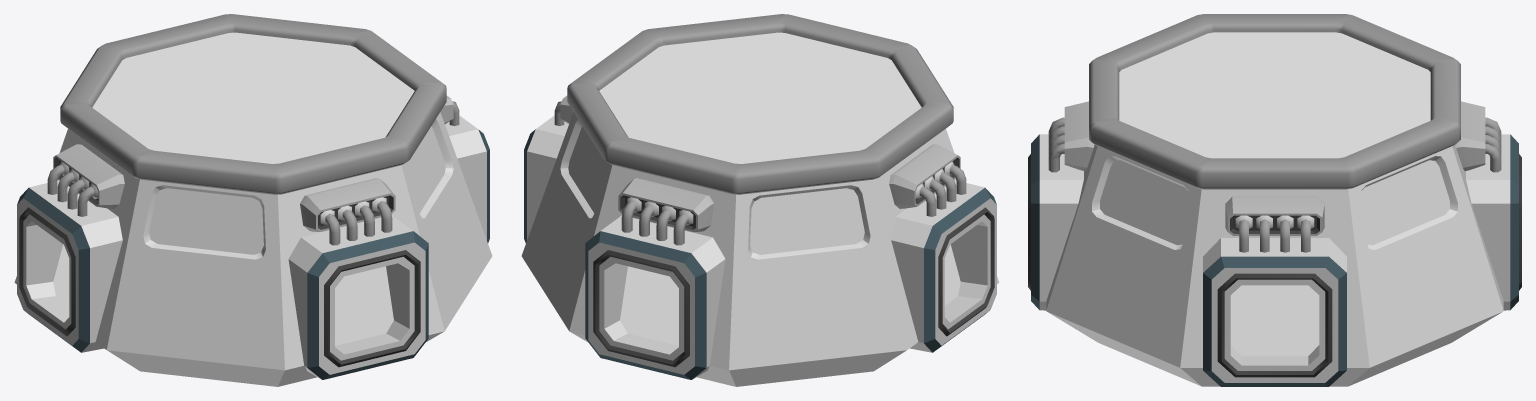
The model's file is section_006.fbx.
The picture shows the model from 3 angles, left to right: view 1: azimuth 30°, elevation 25°; view 2: azimuth 150°, elevation 25°; view 3: azimuth 270°, elevation 25°; orthographic projection. The views are drawn at different scales.
Visible parts, largest first — view 1: section_006; view 2: section_006; view 3: section_006.
Part boxes in pixels (x1,y1,x2,y2): section_006: (14, 14, 492, 386); section_006: (521, 14, 999, 386); section_006: (1028, 14, 1521, 386).
Bounding box in the file's own units: 1318 × 1318 × 652.
